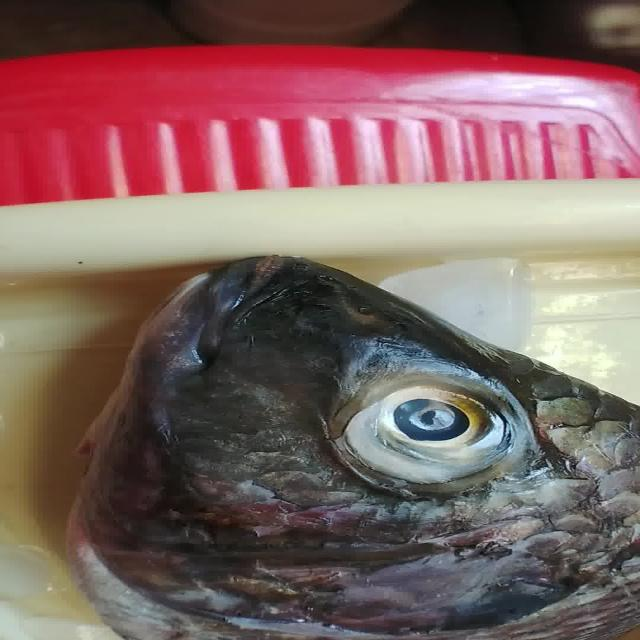Fresh: (269, 363, 553, 490)
